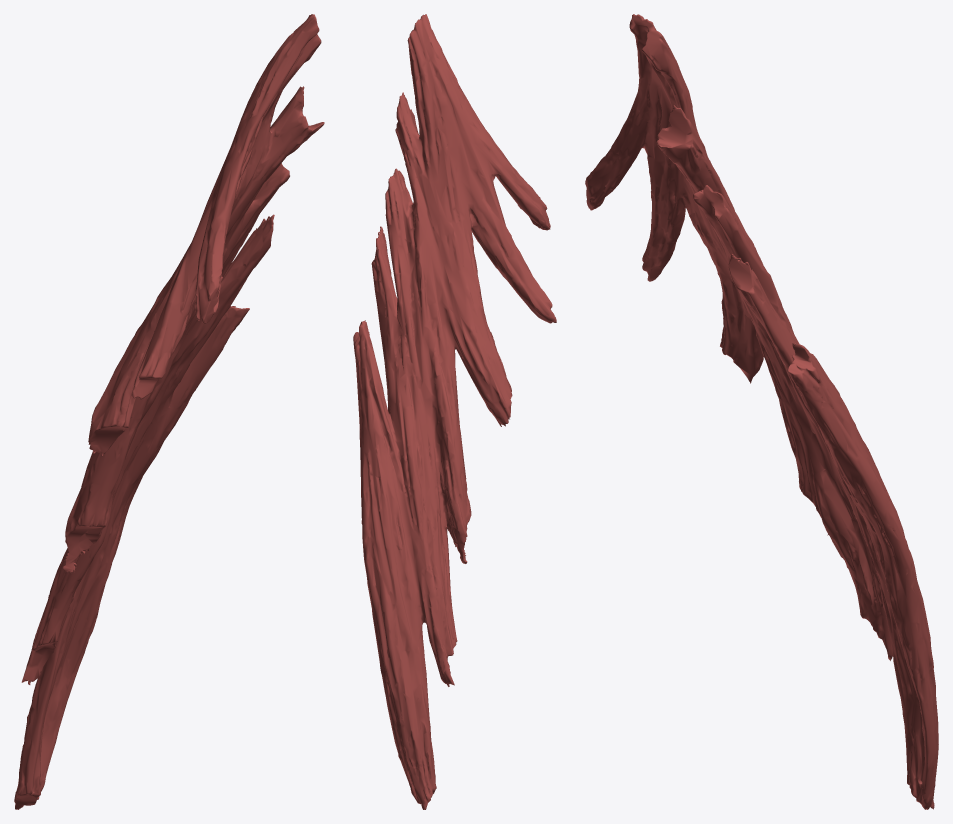
File: FMA22874.glb
3 views of the same model, side by side, from view 1: azimuth 30°, elevation 25°; view 2: azimuth 150°, elevation 25°; view 3: azimuth 270°, elevation 25° (orthographic). The views are drawn at different scales.
Visible parts, largest first — view 1: FMA22874; view 2: FMA22874; view 3: FMA22874.
Part boxes in pixels (<box>): FMA22874: <box>14,14,324,809</box>; FMA22874: <box>353,14,556,809</box>; FMA22874: <box>585,14,938,809</box>.
Size of the model in its own units: 0.0329 by 0.138 by 0.051.
